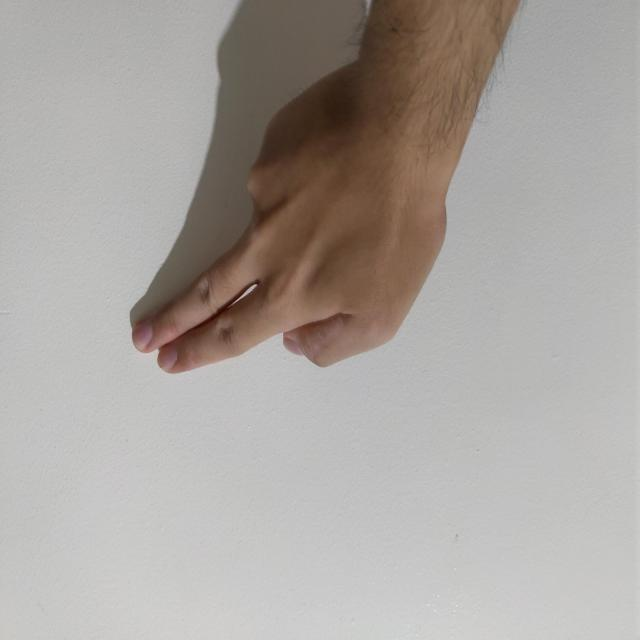H: (192, 264, 510, 578)
